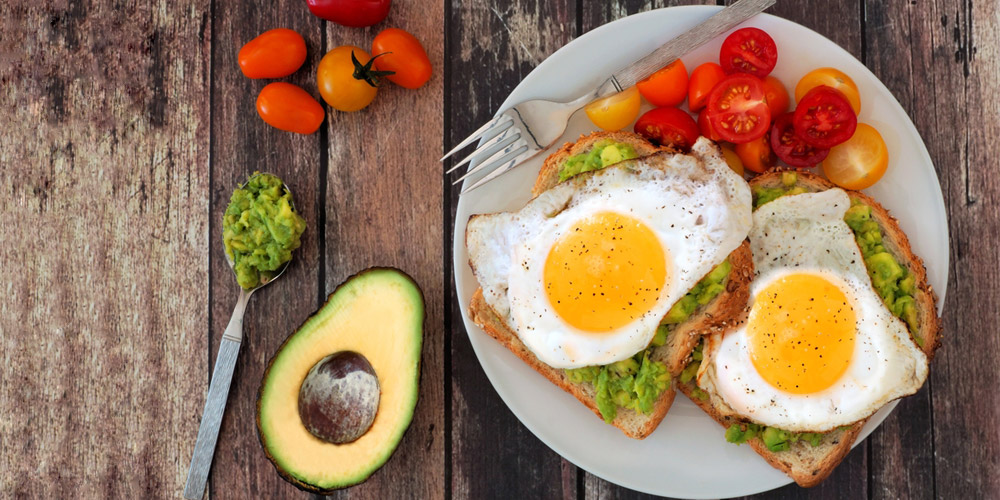fried egg: (493, 170, 706, 366), (723, 265, 881, 432)
slice of bread: (490, 294, 705, 453), (702, 405, 876, 482)
